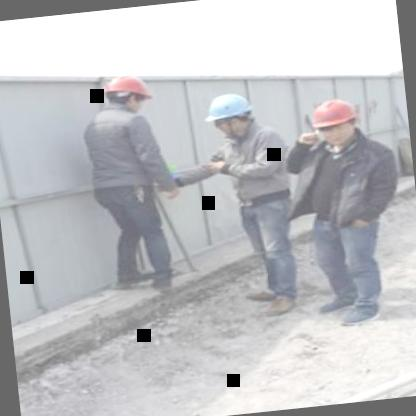helmet: (302, 92, 366, 146), (201, 88, 256, 142), (99, 70, 155, 118)
